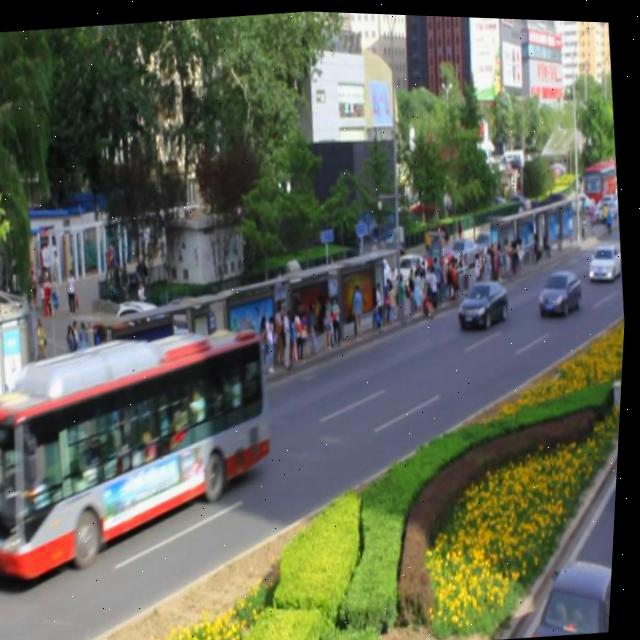car: (456, 270, 512, 327), (537, 261, 585, 311), (587, 236, 625, 276)
van: (0, 312, 286, 576)
